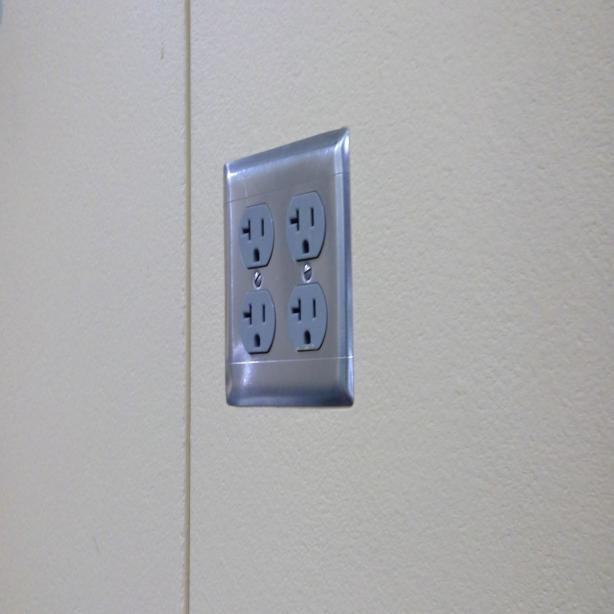typeb: (282, 188, 326, 261), (237, 200, 276, 266), (289, 285, 326, 349), (241, 294, 273, 352)
